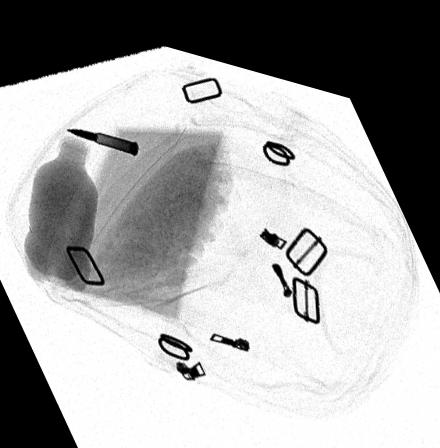Bullet: (67, 124, 140, 150)
